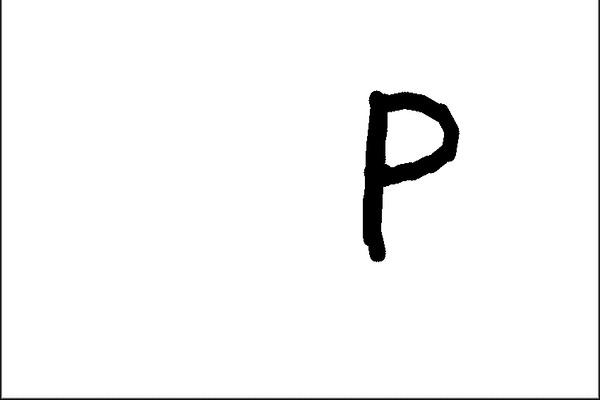P: (341, 75, 464, 274)
